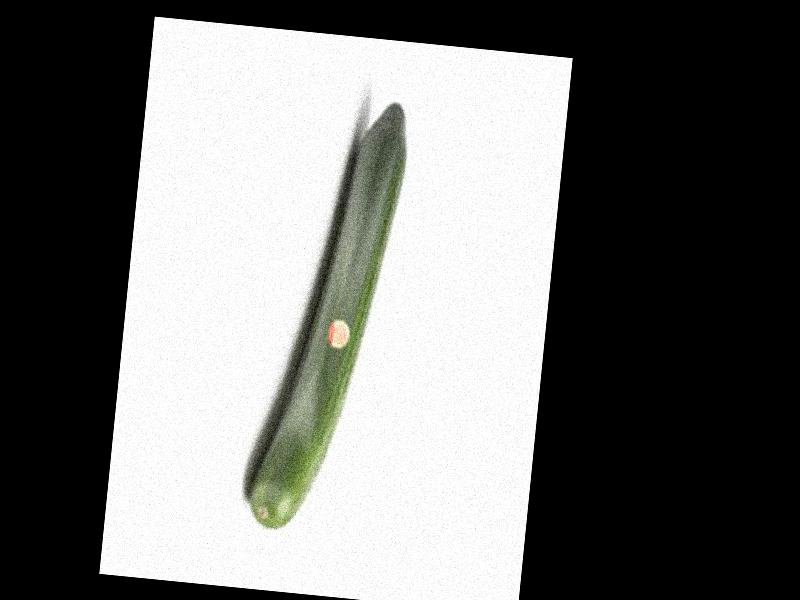Cucumber: (246, 92, 411, 541)
